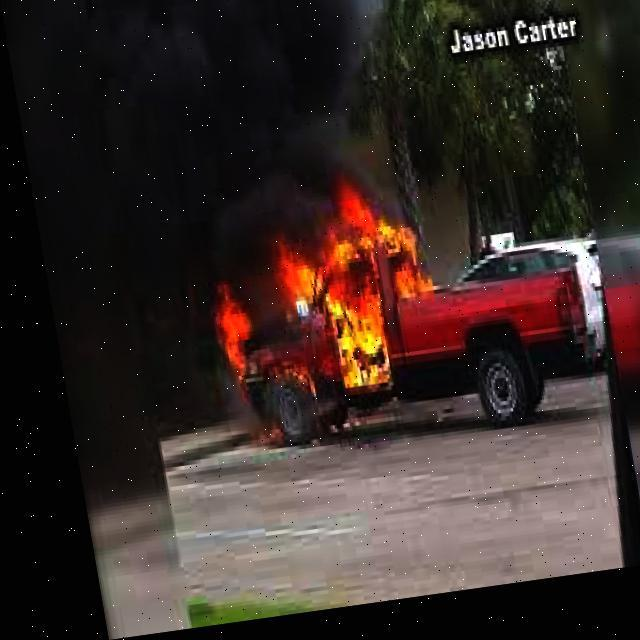Fire: (172, 202, 440, 454)
